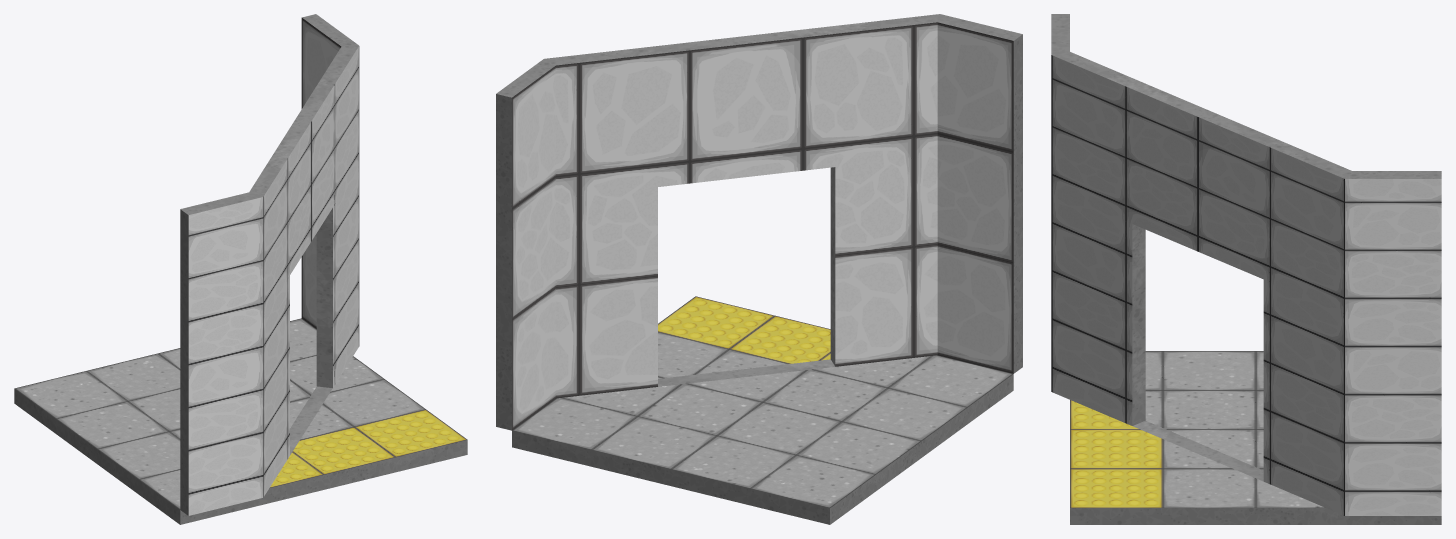
File: SM_Wall_Corner_Door_B.fbx
3 views of the same model, side by side, from view 1: azimuth 30°, elevation 25°; view 2: azimuth 150°, elevation 25°; view 3: azimuth 270°, elevation 25° (orthographic). The views are drawn at different scales.
Parts seen in each view (by area): view 1: SM_Wall_Corner_Door_B; view 2: SM_Wall_Corner_Door_B; view 3: SM_Wall_Corner_Door_B.
Part boxes in pixels (x1=…): SM_Wall_Corner_Door_B: x1=14, y1=14, x2=467, y2=524; SM_Wall_Corner_Door_B: x1=496, y1=14, x2=1022, y2=524; SM_Wall_Corner_Door_B: x1=1051, y1=14, x2=1441, y2=524.
Size of the model in its own units: 420 by 420 by 420.
